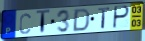3: (56, 9, 71, 34)
C: (19, 13, 32, 36)
D: (71, 8, 91, 33)
P: (112, 5, 131, 30)
T: (35, 9, 51, 36), (97, 7, 111, 31)
